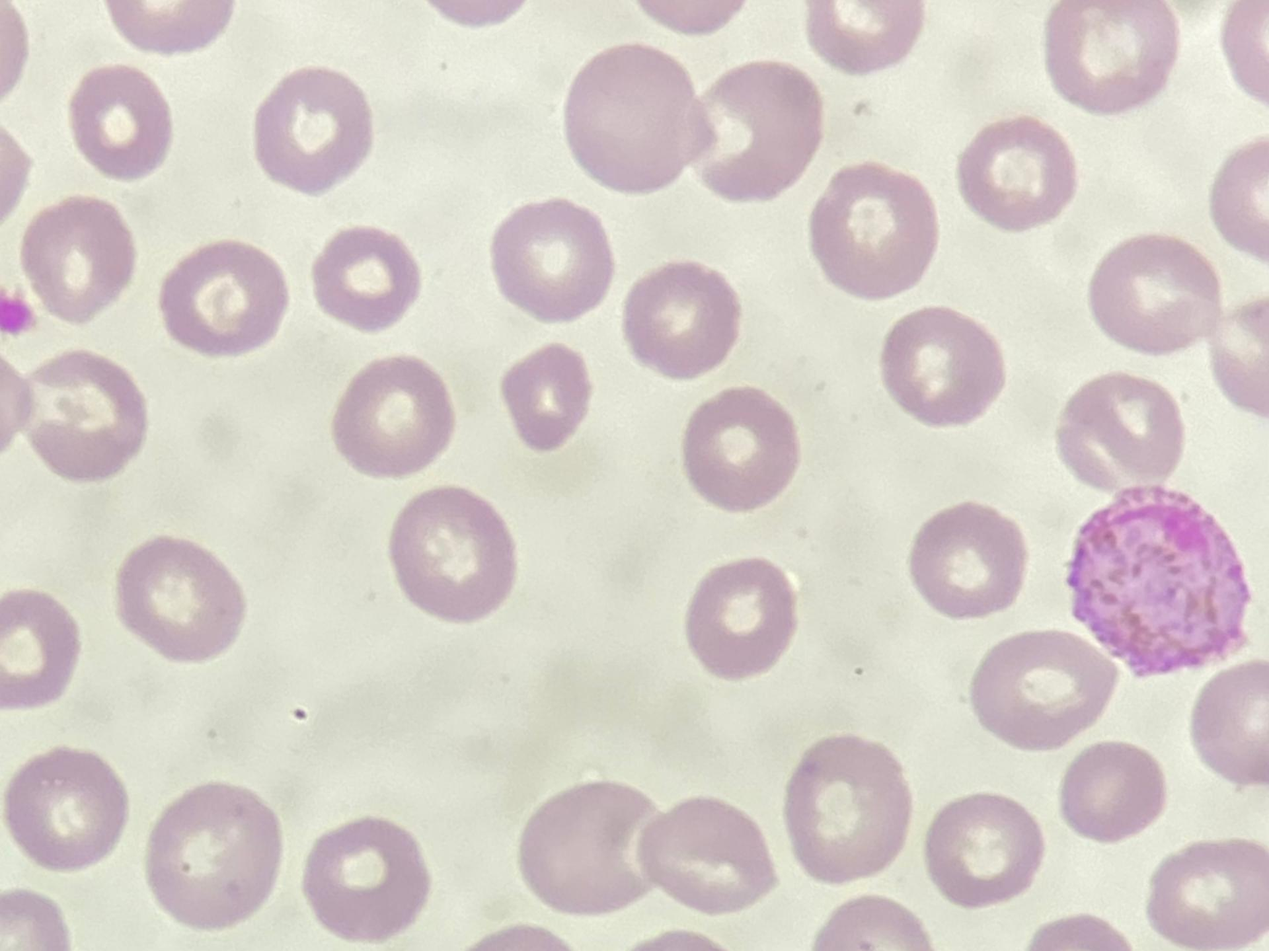Infected: (1067, 488, 1248, 673)
Uninfected: (564, 46, 708, 188), (146, 784, 282, 926), (783, 738, 913, 882), (519, 782, 659, 913), (696, 61, 823, 200), (809, 163, 939, 297), (969, 632, 1112, 748), (389, 488, 514, 620), (679, 388, 806, 517), (20, 352, 147, 479), (638, 797, 775, 913), (115, 537, 242, 662), (1089, 233, 1221, 351), (883, 305, 1006, 431), (302, 819, 428, 941), (490, 197, 615, 319), (4, 747, 123, 874), (332, 354, 455, 476), (159, 240, 287, 356), (255, 66, 373, 191), (907, 500, 1030, 619), (21, 195, 136, 322), (1046, 0, 1174, 110), (1058, 374, 1181, 488), (685, 559, 799, 680), (622, 261, 738, 376), (1146, 845, 1269, 950), (958, 118, 1074, 229), (66, 61, 174, 180), (924, 796, 1038, 906), (312, 225, 423, 330), (1060, 742, 1161, 842), (500, 342, 594, 449), (1190, 663, 1268, 785), (0, 591, 79, 706), (808, 2, 926, 71)
